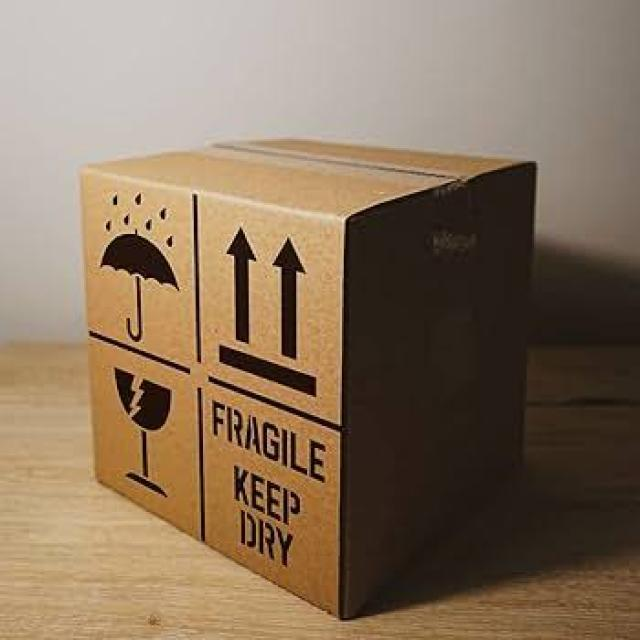fragile_label: (98, 348, 202, 537), (203, 381, 344, 499)
keep_dry_label: (85, 174, 198, 368), (205, 445, 325, 609)
this_side_up_label: (206, 206, 338, 422)
